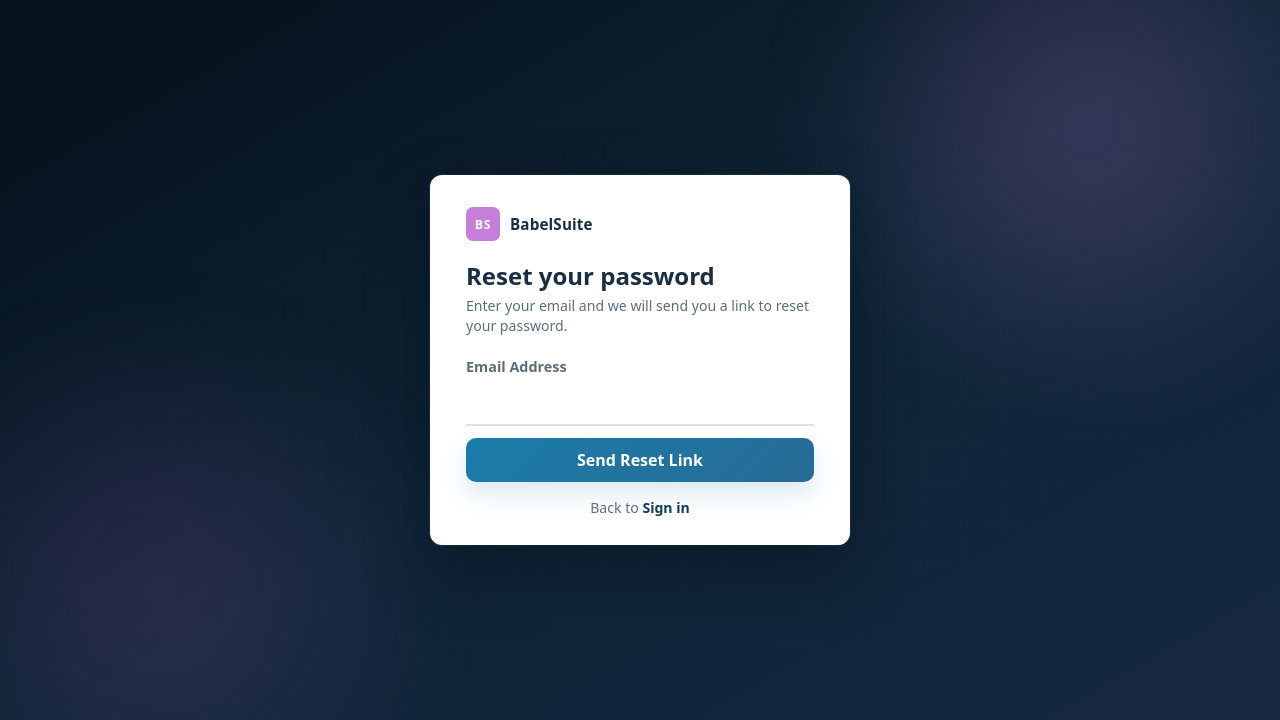
Test case: ForgotPassword › shows confirmation message after successful submission
Type "alice@example.com" into the field labelled "Email Address". click: [640, 405]
box: [466,384,814,426]
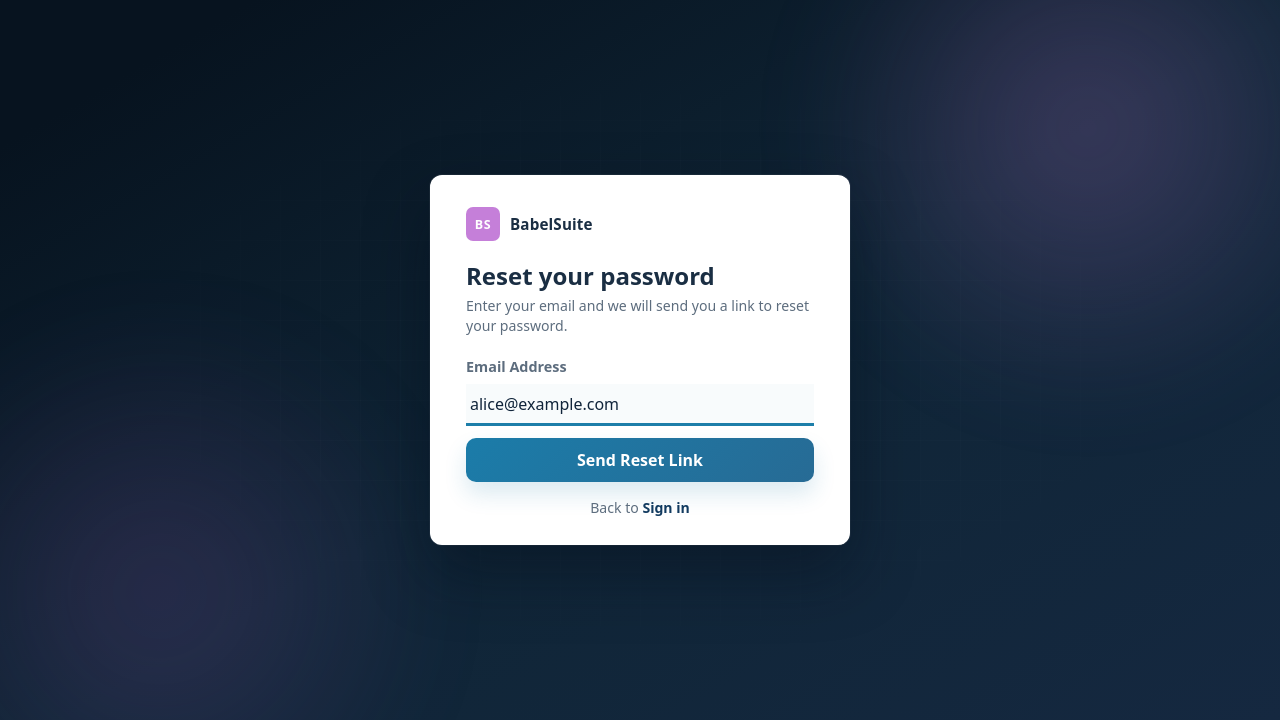
Click the button "Send Reset Link". click: [640, 460]
box: [466,438,814,482]
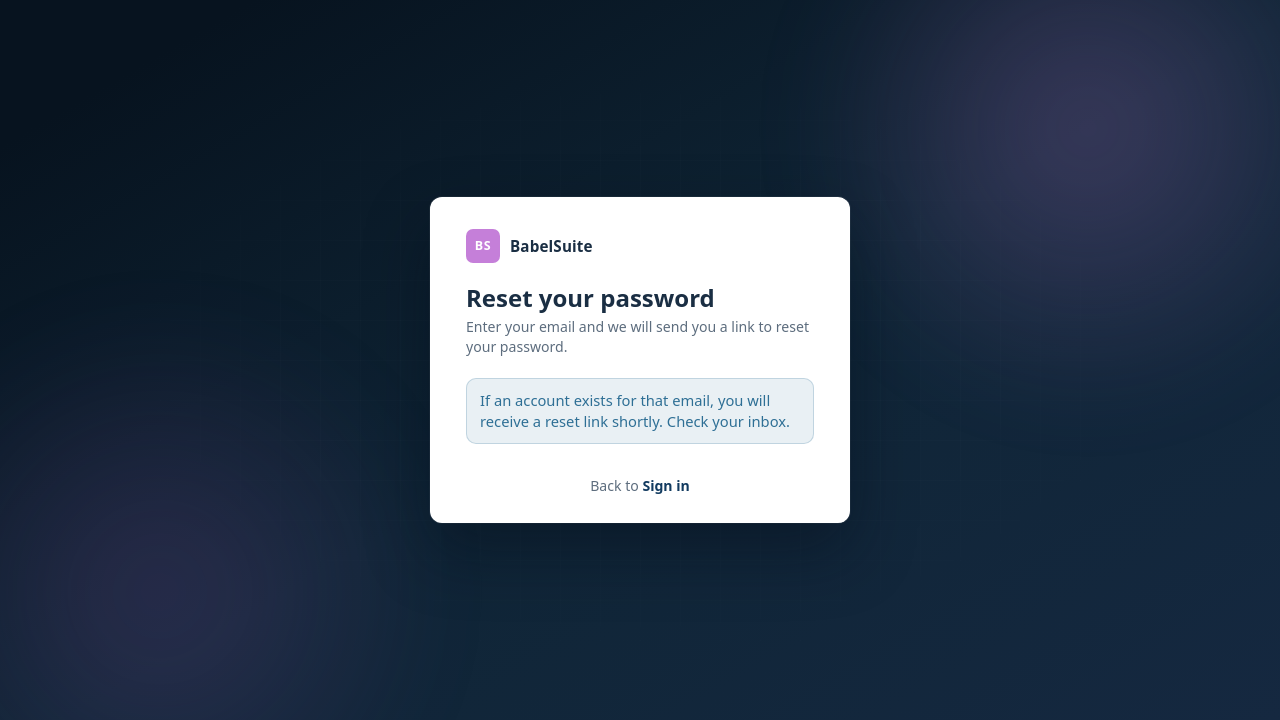
Result: the text "you will receive a reset link" is shown at [480,390,790,431]
Result: the button "Send Reset Link" is gone
